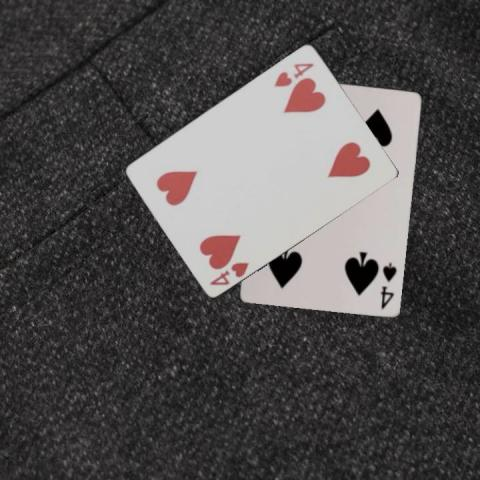4h: (271, 59, 315, 88), (206, 258, 250, 286)
4s: (377, 259, 398, 310)
